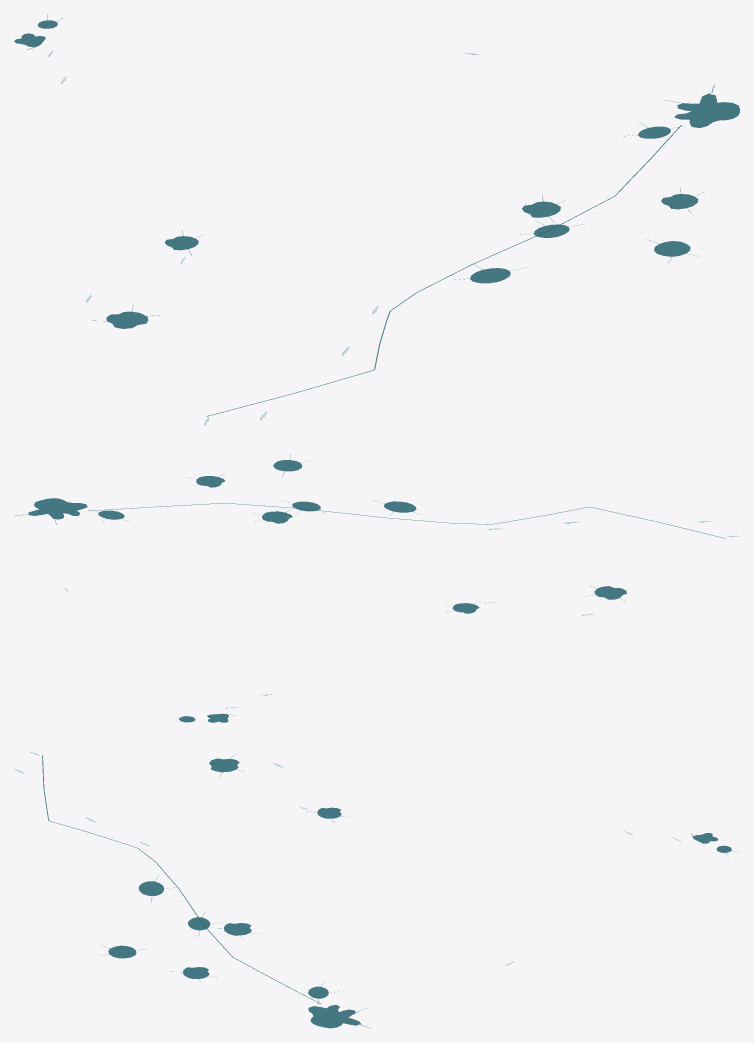
The model's file is ring3_greater_lamdong_lakes_da_nhim_and_waterfalls_auto_b01.glb.
The picture shows the model from 3 angles, top to bottom: view 1: azimuth 30°, elevation 25°; view 2: azimuth 150°, elevation 25°; view 3: azimuth 270°, elevation 25°; orthographic projection. The views are drawn at different scales.
Parts seen in each view (by area): view 1: ring3_reservoirs_water_surface_blend, ring3_song_da_nhim_and_streams_blend; view 2: ring3_reservoirs_water_surface_blend, ring3_song_da_nhim_and_streams_blend; view 3: ring3_reservoirs_water_surface_blend, ring3_song_da_nhim_and_streams_blend.
Boxes of the visible parts, x1=… form: ring3_reservoirs_water_surface_blend: x1=14, y1=20, x2=739, y2=328; ring3_song_da_nhim_and_streams_blend: x1=27, y1=14, x2=714, y2=416; ring3_reservoirs_water_surface_blend: x1=28, y1=460, x2=626, y2=722; ring3_song_da_nhim_and_streams_blend: x1=15, y1=455, x2=725, y2=716; ring3_reservoirs_water_surface_blend: x1=108, y1=758, x2=731, y2=1028; ring3_song_da_nhim_and_streams_blend: x1=42, y1=755, x2=736, y2=1028.
Size of the model in its own units: 37363 by 720 by 40628.
